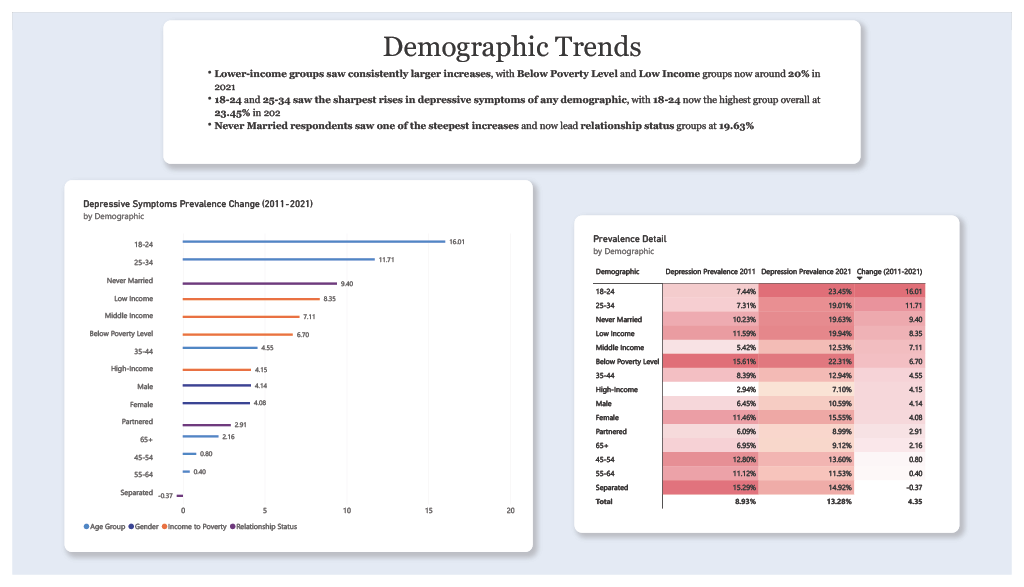

This screenshot's page, from the dashboard's own definition file:
{"tool":"powerbi","page":{"name":"Demographic Trends","canvas":[1920,1080],"ordinal":1},"visuals":[{"type":"shape","box":[1080,390,740,610],"z":0},{"type":"shape","box":[100,322,900,715],"z":1000},{"type":"shape","box":[290,15,1340,276],"z":2000},{"type":"clusteredBarChart","title":"Depressive Symptoms Prevalence Change (2011-2021)","fields":{"Y":["demo_depression_m.Depression ppc Measure"],"Category":["demo_depression_m.demographic_value"],"Series":["demo_depression_m.demographic_type"]},"box":[120,342.9,860.8,675],"z":3000},{"type":"pivotTable","title":"Prevalence Detail","fields":{"Values":["demo_depression_m.Depression Rate 2011","demo_depression_m.Depression Rate 2021","demo_depression_m.Depression ppc Measure"],"Rows":["demo_depression_m.demographic_value"]},"box":[1100.1,410,700.3,570.5],"z":4000},{"type":"textbox","box":[360,103.7,1200,164.9],"z":7000},{"type":"textbox","box":[310,33.6,1300,70],"z":8000}]}

Visuals, with their boxes in screenshot pixels (x1, y1, x2, y2), scaled from the page's 1920x1080 canvas onto the 1024x587 screenshot:
shape: locate(576, 212, 971, 544)
shape: locate(53, 175, 533, 564)
shape: locate(155, 8, 869, 158)
"Depressive Symptoms Prevalence Change (2011-2021)" clusteredBarChart: locate(64, 186, 523, 553)
"Prevalence Detail" pivotTable: locate(587, 223, 960, 533)
textbox: locate(192, 56, 832, 146)
textbox: locate(165, 18, 859, 56)
